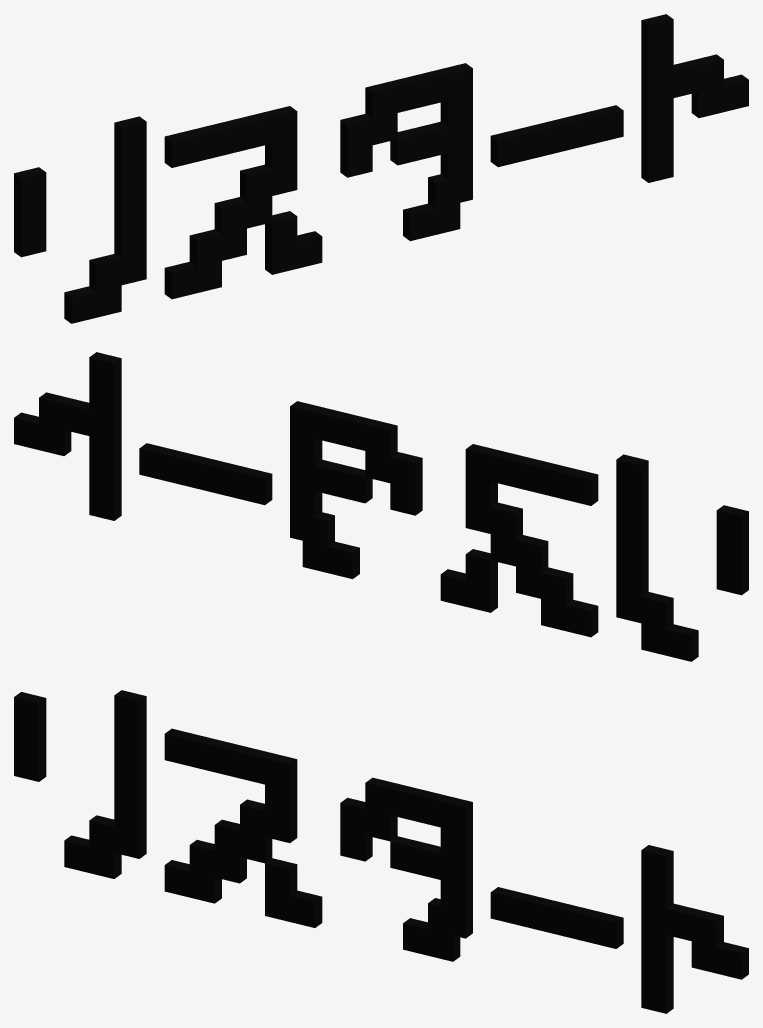
Rendered from ReStart.obj.
The picture shows the model from 3 angles, top to bottom: view 1: azimuth 30°, elevation 25°; view 2: azimuth 150°, elevation 25°; view 3: azimuth 330°, elevation 25°; orthographic projection.
Size of the model in its own units: 5.8 by 1.4 by 0.1.
